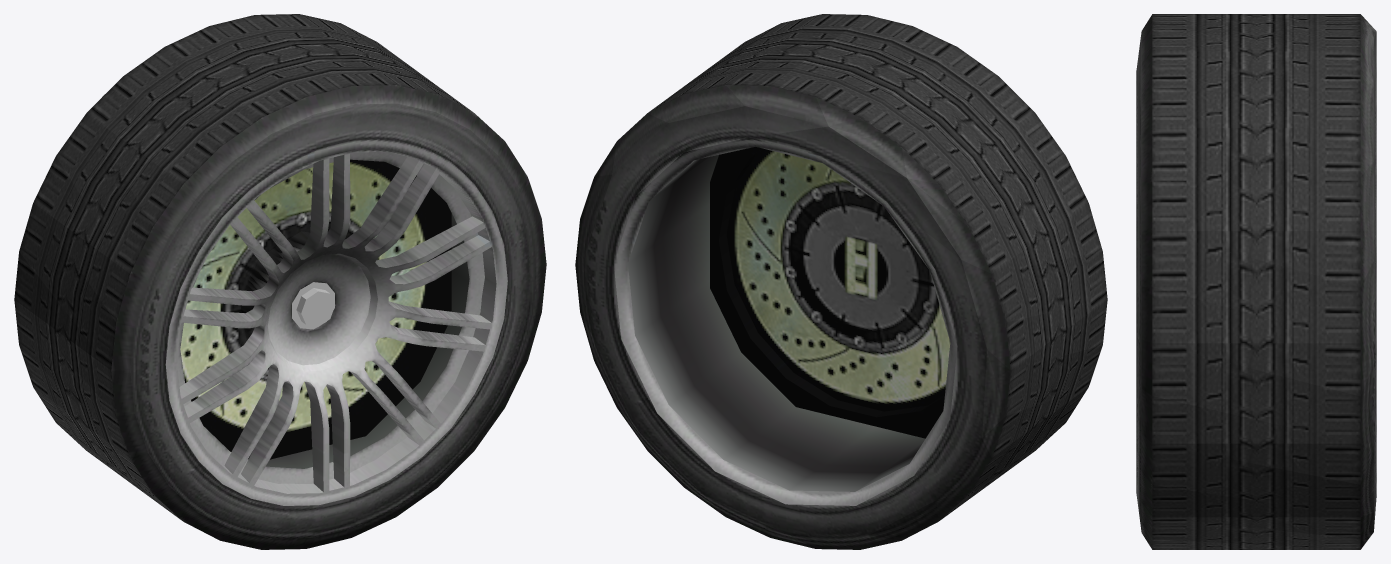
The model's file is front_left_wheel.obj.
3 renders of one model, left to right at view 1: azimuth 30°, elevation 25°; view 2: azimuth 150°, elevation 25°; view 3: azimuth 270°, elevation 25°, orthographic. The views are drawn at different scales.
Parts seen in each view (by area): view 1: (null); view 2: (null); view 3: (null).
Part boxes in pixels (bbox=[...]): (null): bbox=[14, 14, 546, 549]; (null): bbox=[575, 14, 1107, 549]; (null): bbox=[1136, 14, 1376, 549].
Bounding box in the file's own units: 2129 × 2112 × 948.
Materials: 5 (4 with a texture image).
